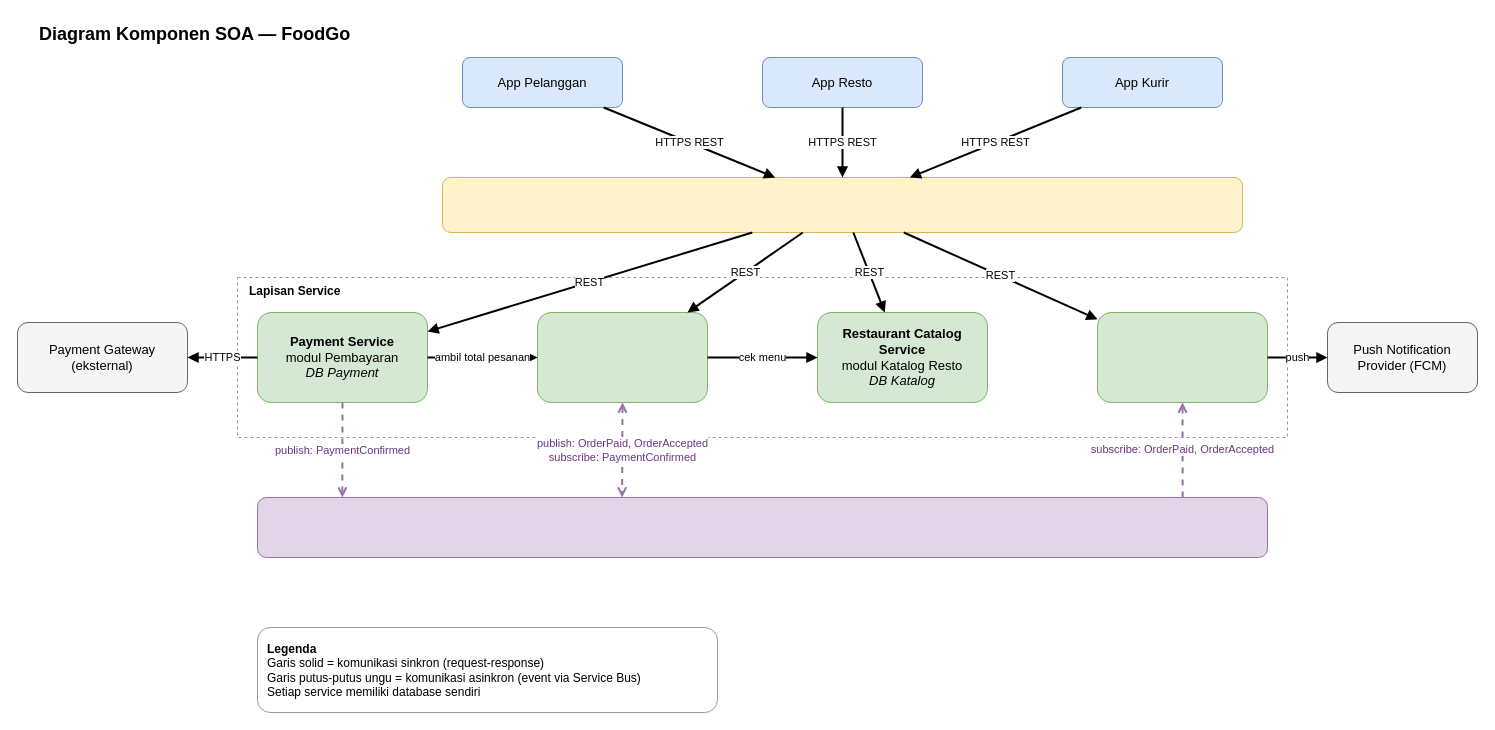
The diagram is 1495 pixels wide and 730 high, and some of its shapes have lost their labels. Each missing label, with the centre of its shape:
"API Gateway routing, autentikasi, rate limit" belongs at point (842, 204).
"Courier & Notification Service modul Kurir/Notifikasi DB Courier" belongs at point (1182, 357).
"Order Service modul Pesanan DB Order" belongs at point (622, 357).
"Service Bus / Message Broker integrasi & routing event (durable queue, retry)" belongs at point (762, 527).
